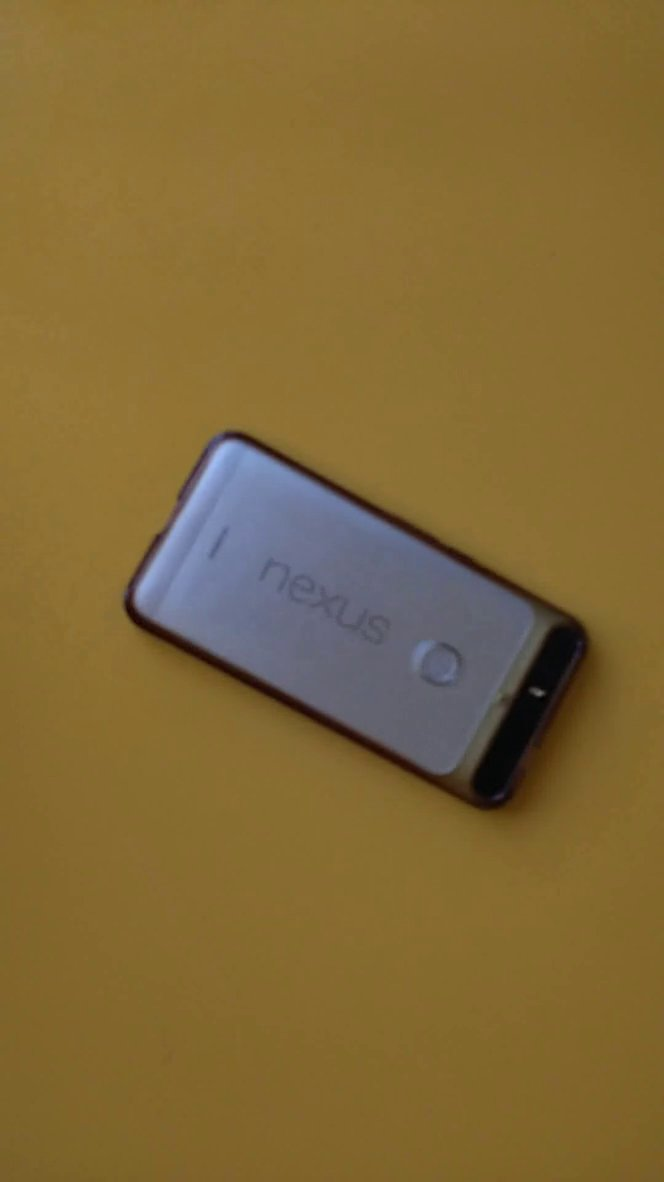phone: (104, 418, 616, 825)
